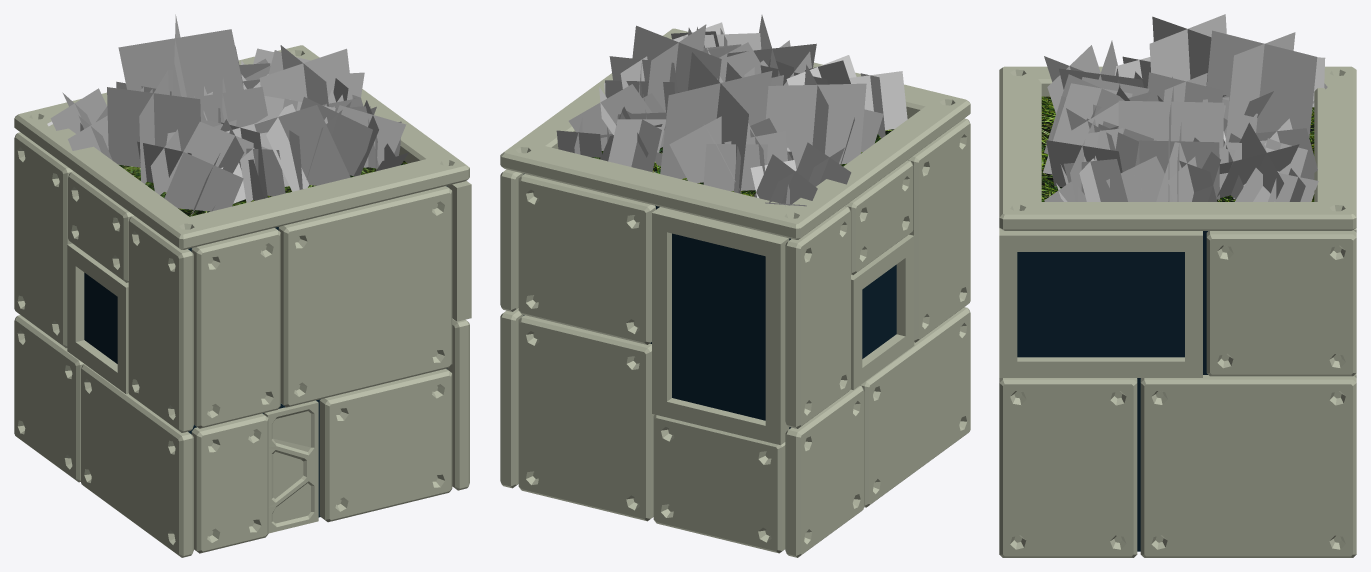
File: House 5.fbx
3 renders of one model, left to right at view 1: azimuth 30°, elevation 25°; view 2: azimuth 150°, elevation 25°; view 3: azimuth 270°, elevation 25°, orthographic. The views are drawn at different scales.
Parts seen in each view (by area): view 1: H5.High; view 2: H5.High; view 3: H5.High.
Part boxes in pixels (x1,y1,x2,y2): H5.High: [14, 14, 471, 557]; H5.High: [500, 15, 970, 557]; H5.High: [999, 14, 1356, 557].
Size of the model in its own units: 500 by 674 by 500.
